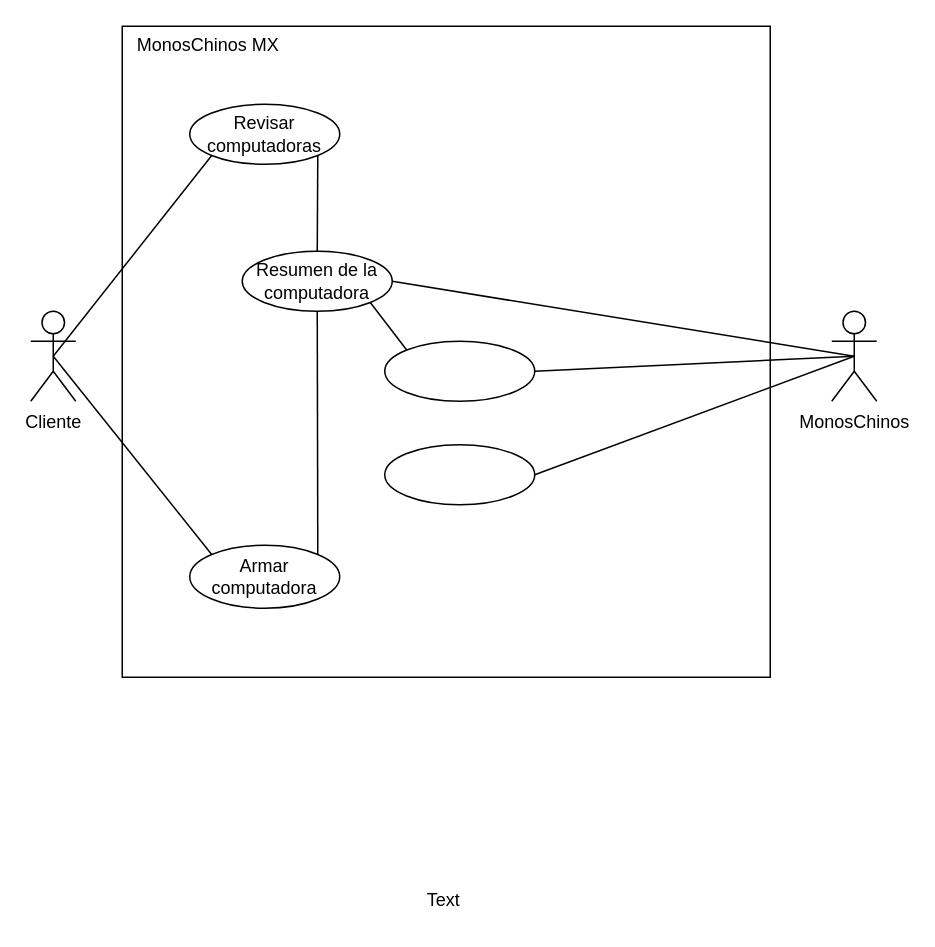
Some shapes in this 935 by 947 pixel diagram are drawn without their labels. The shapes that lost their labels are listed below. From the top down, each one's box as (x1, y1, x2, y2) in pixels, then its label:
(383, 340, 535, 401): Cotización de la computadora
(383, 443, 535, 505): Ticket del pedido
